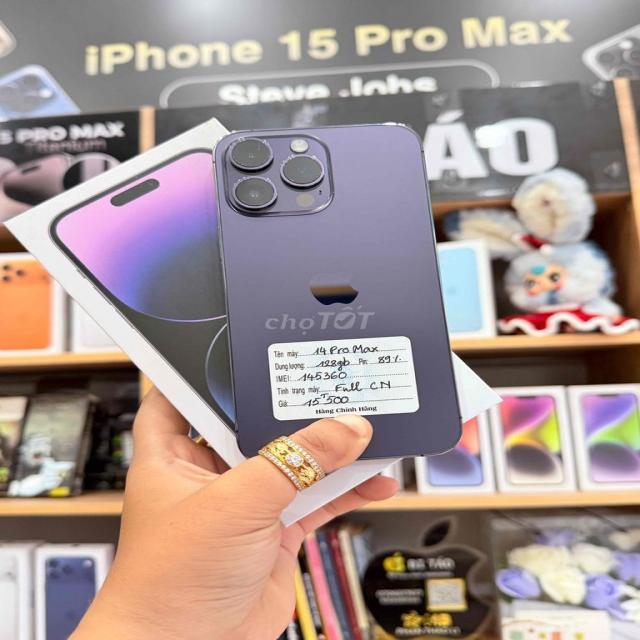gen_14: (206, 116, 476, 472)
